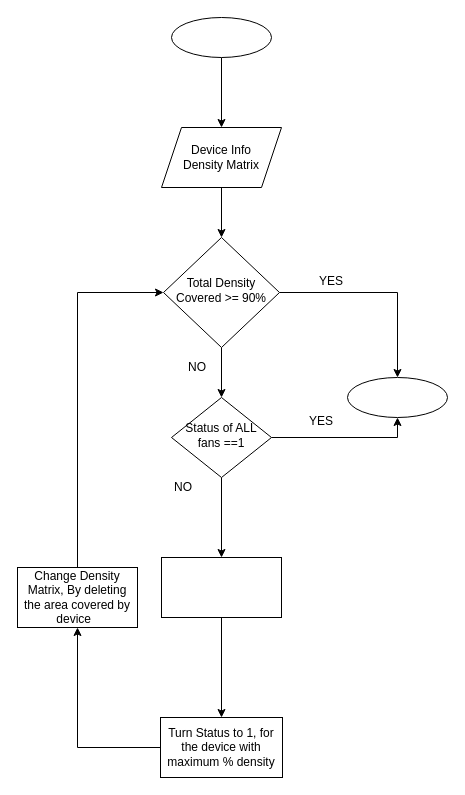
The diagram is 465 pixels wide and 795 high, and some of its shapes have lost their labels. Here are the shapes that lost their labels. From the top down, the centre of each, then its label:
the point at 221,37: Start
the point at 397,397: Stop
the point at 221,587: Calculate % Density covered by each Device
